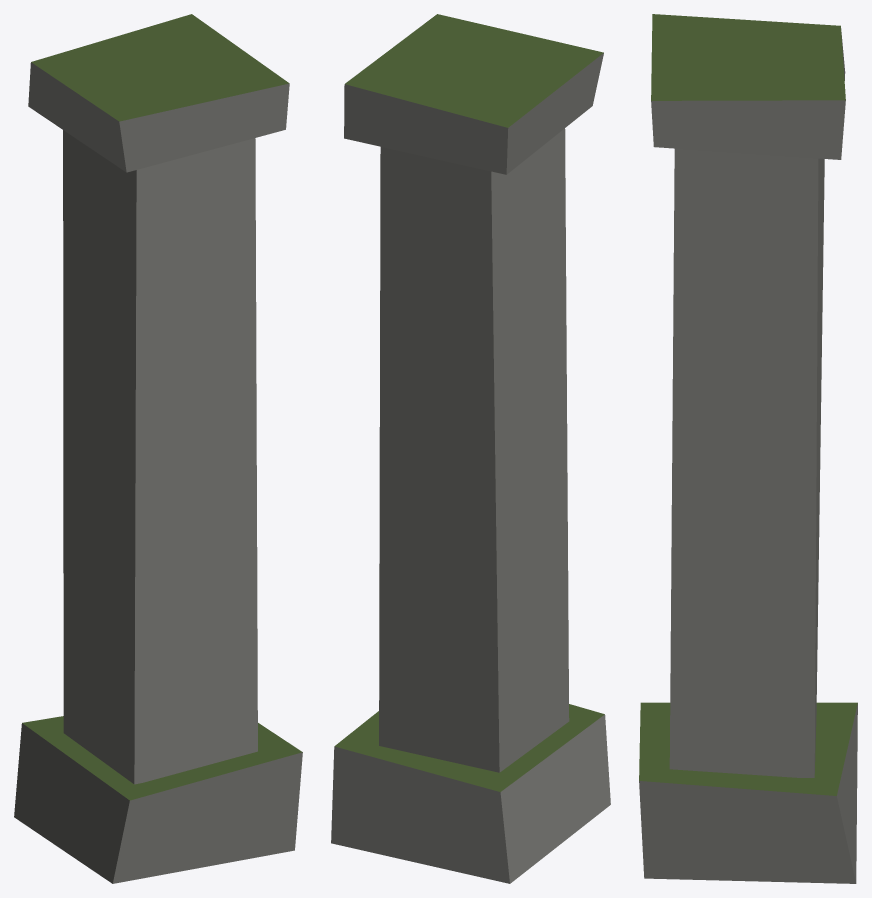
File: Post.fbx
The picture shows the model from 3 angles, left to right: view 1: azimuth 30°, elevation 25°; view 2: azimuth 150°, elevation 25°; view 3: azimuth 270°, elevation 25°; orthographic projection. The views are drawn at different scales.
Visible parts, largest first — view 1: Post; view 2: Post; view 3: Post.
Boxes of the visible parts, x1,y1,x2,y2 form: Post: [14, 14, 302, 883]; Post: [331, 14, 610, 883]; Post: [639, 14, 857, 883].
Size of the model in its own units: 0.7003 by 2.72 by 0.6903.
